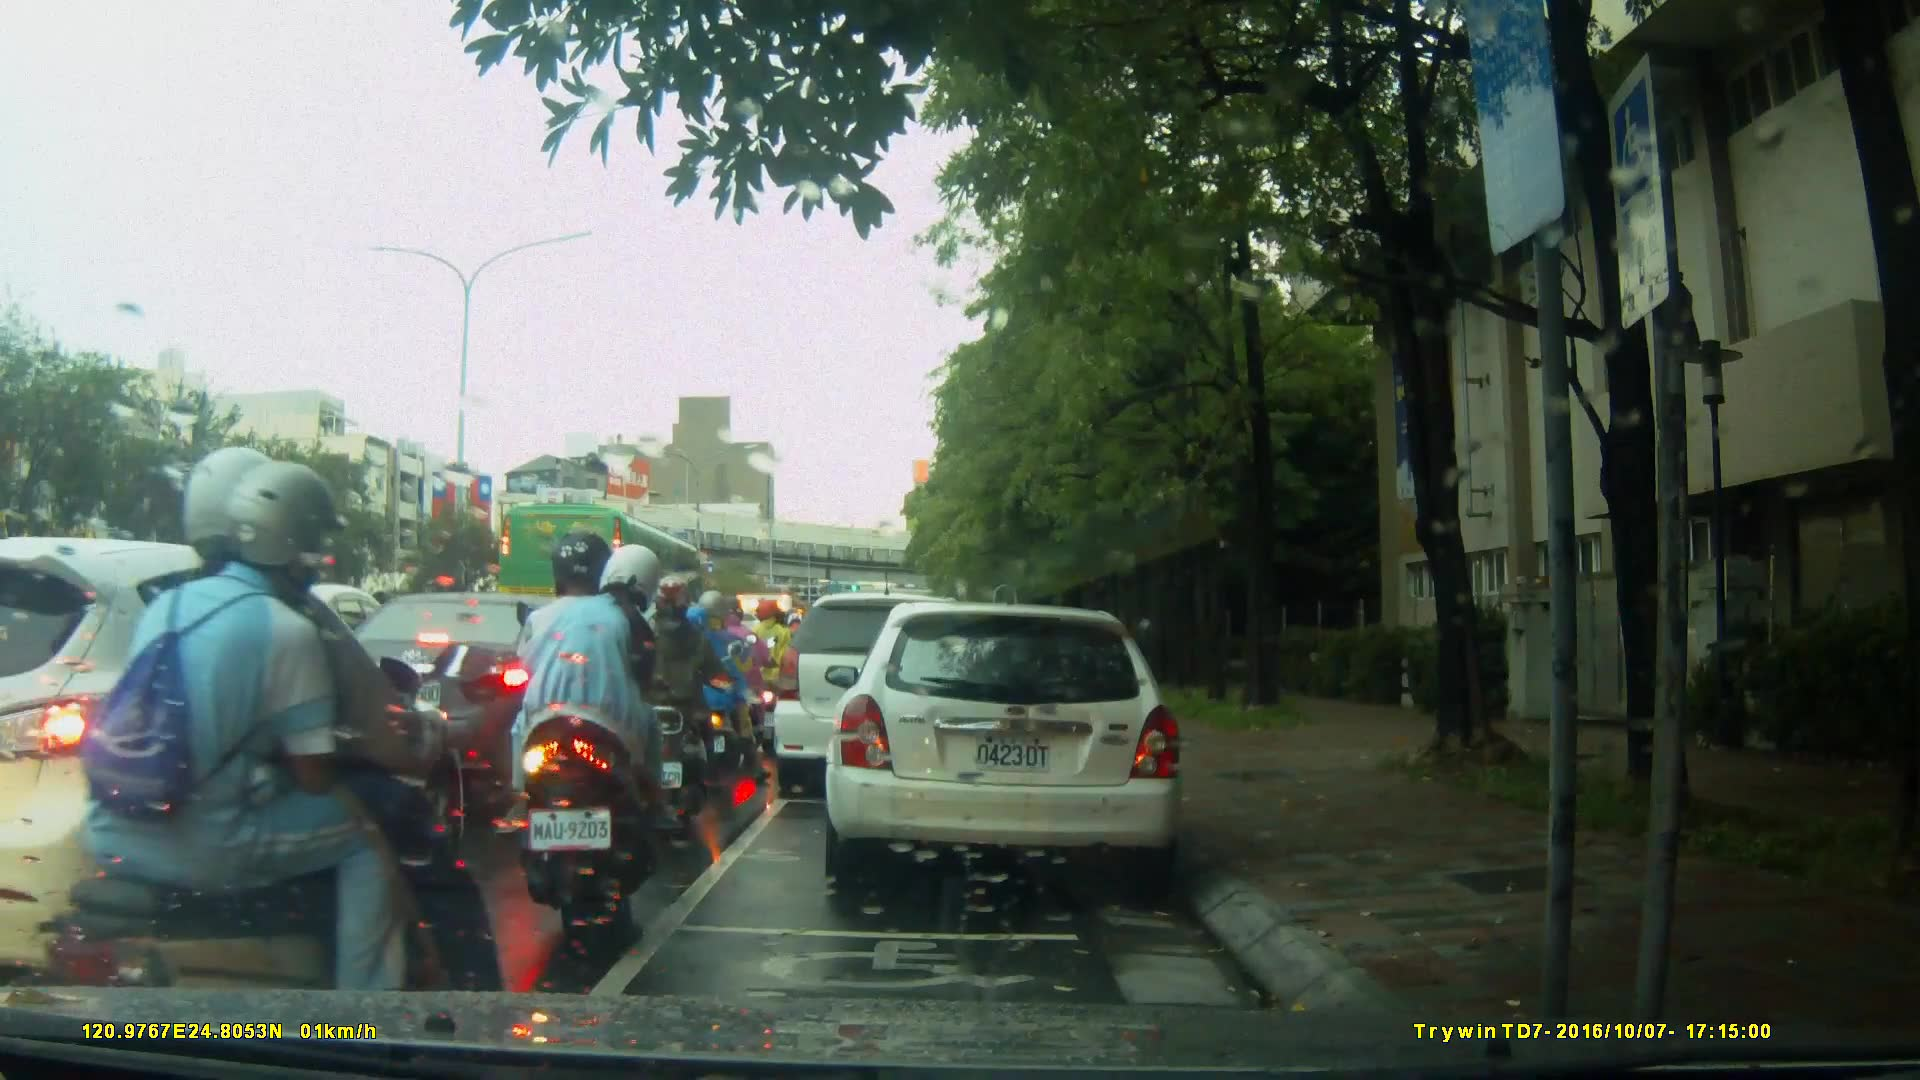rider: (39, 442, 507, 1077), (507, 530, 692, 940), (626, 575, 733, 827), (675, 589, 759, 783), (701, 598, 773, 764), (747, 598, 798, 739)
vehicle: (3, 536, 463, 988), (831, 592, 1196, 897), (312, 589, 629, 776), (772, 590, 999, 803), (495, 500, 711, 636)
